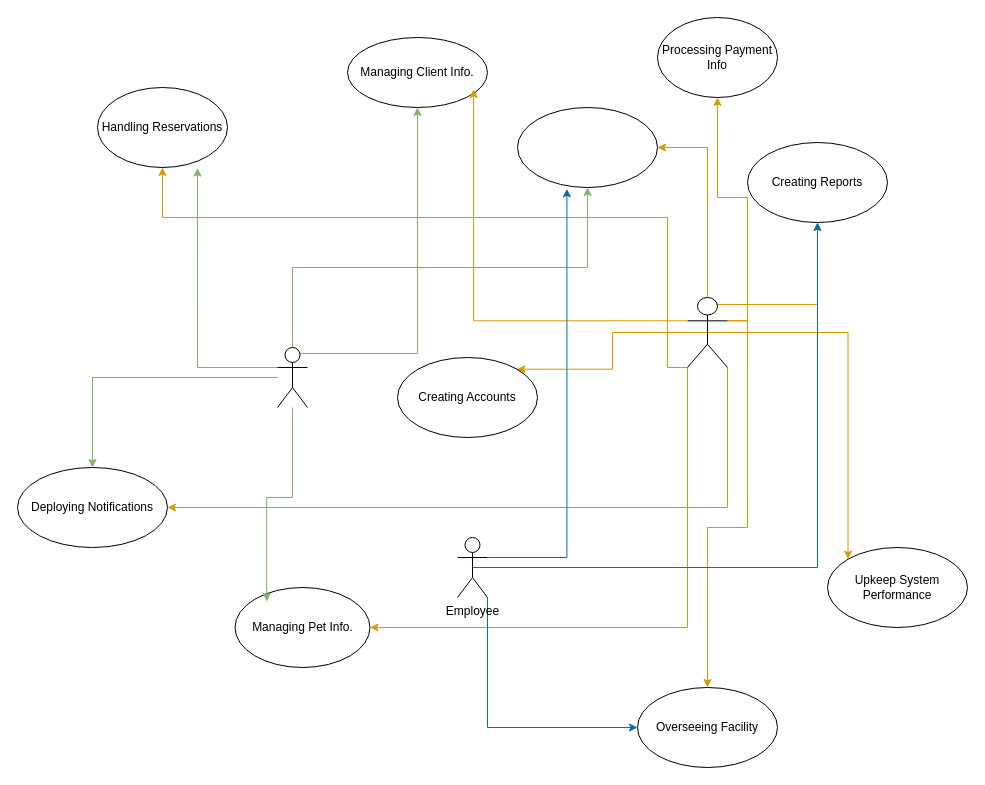
This 985x785 diagram has some shape labels left out. The box of each missing label's shape, as (x1, y1, x2, y2) in pixels:
Admin: (686, 296, 728, 368)
CLient: (276, 346, 308, 408)
Pet Care Instructions: (516, 106, 658, 188)
